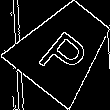P_NE: (32, 17, 94, 80)
